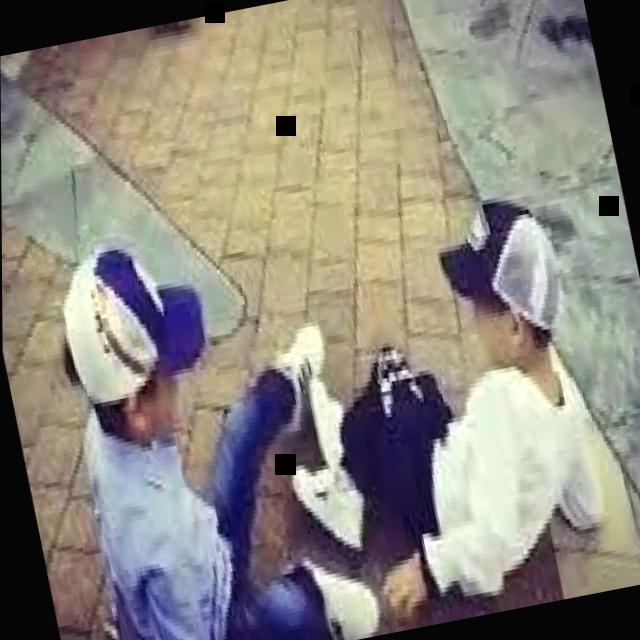Fall-Detected: (232, 156, 635, 640)
